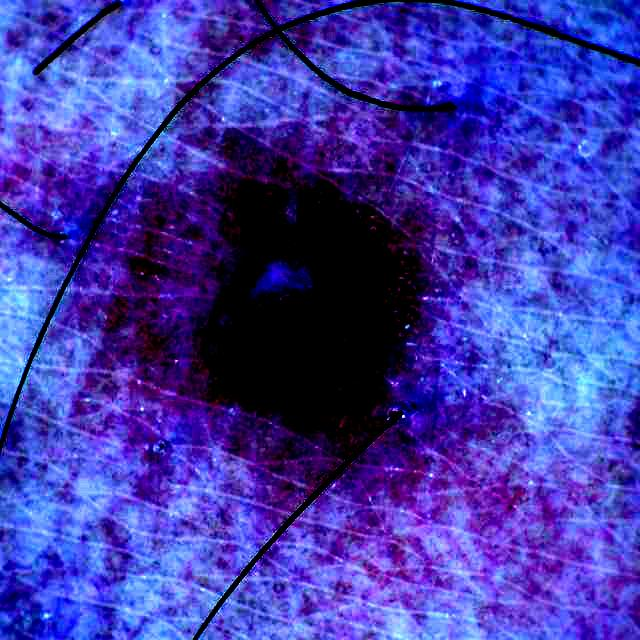DF: (219, 178, 417, 392)
